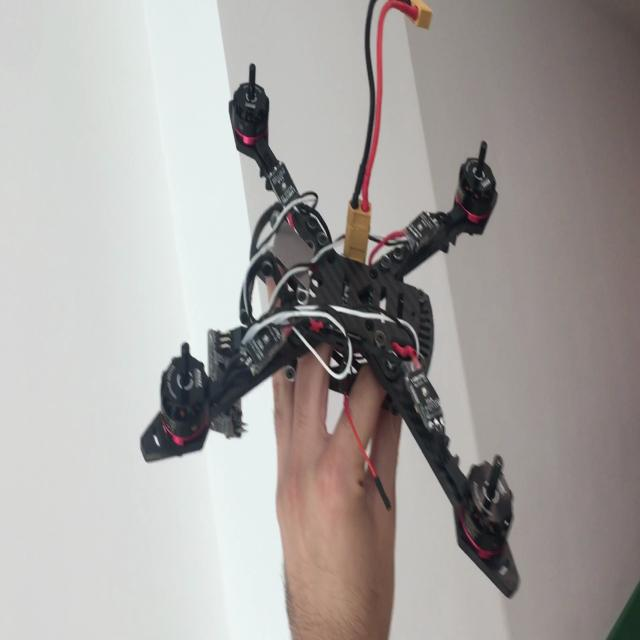drone: (128, 57, 534, 601)
